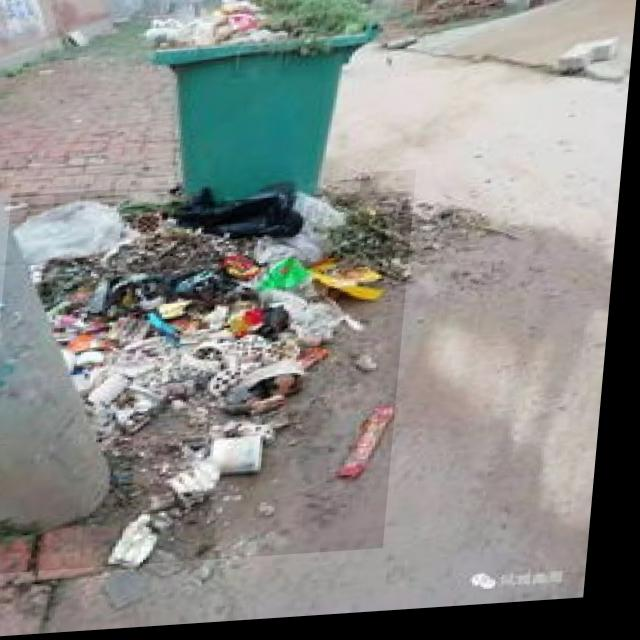garbage: (0, 175, 420, 576)
overflow: (133, 0, 379, 209)
